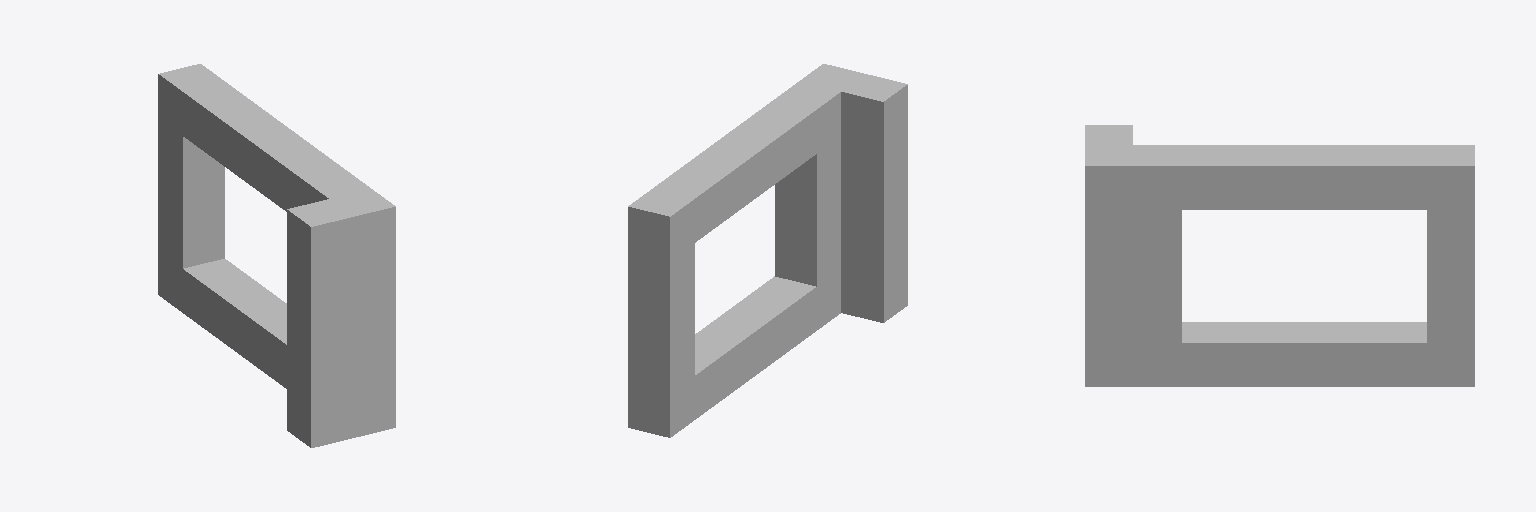
File: microwave door.obj
The picture shows the model from 3 angles: view 1: azimuth 30°, elevation 25°; view 2: azimuth 150°, elevation 25°; view 3: azimuth 270°, elevation 25°; orthographic projection.
Visible parts, largest first — view 1: microwave door; view 2: microwave door; view 3: microwave door.
Part boxes in pixels (bbox=[...]): microwave door: bbox=[158, 64, 395, 447]; microwave door: bbox=[628, 64, 907, 437]; microwave door: bbox=[1085, 125, 1474, 386].
Bounding box in the file's own units: 2 × 5 × 8.